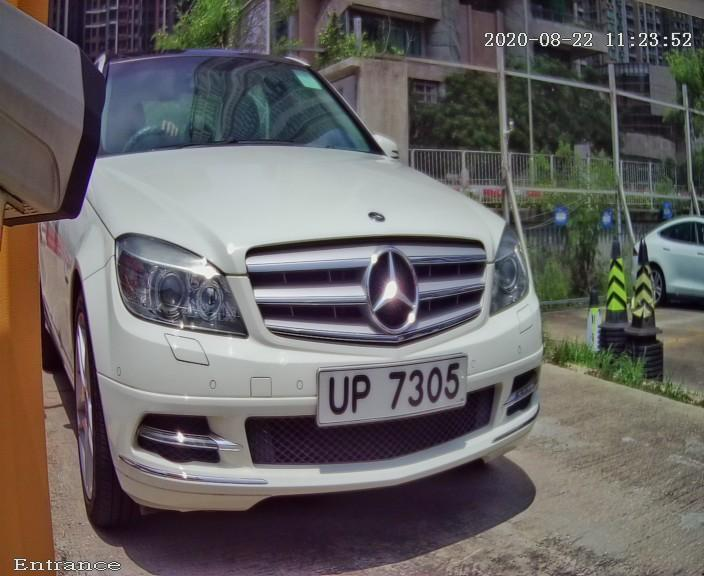Car: (26, 8, 585, 556)
License Plate: (298, 345, 475, 441)
